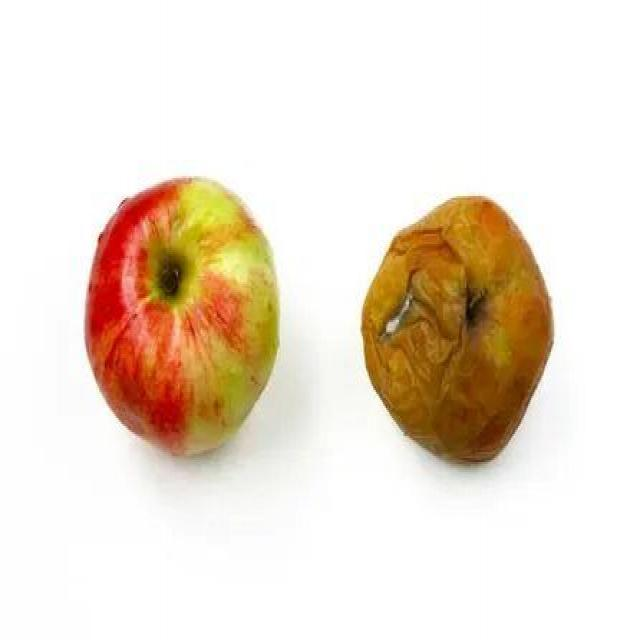fresh_apple: (85, 177, 278, 465)
rotten_apple: (365, 198, 552, 466)
